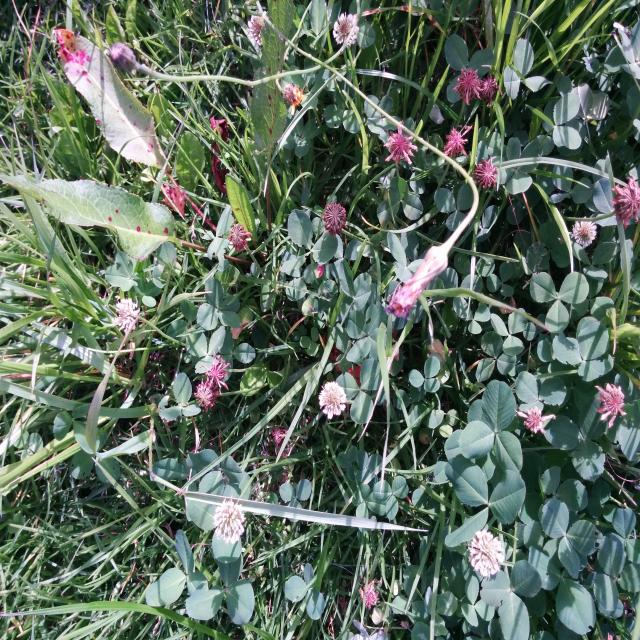Four Leaf Clover: (345, 302, 387, 362), (197, 278, 240, 330)
